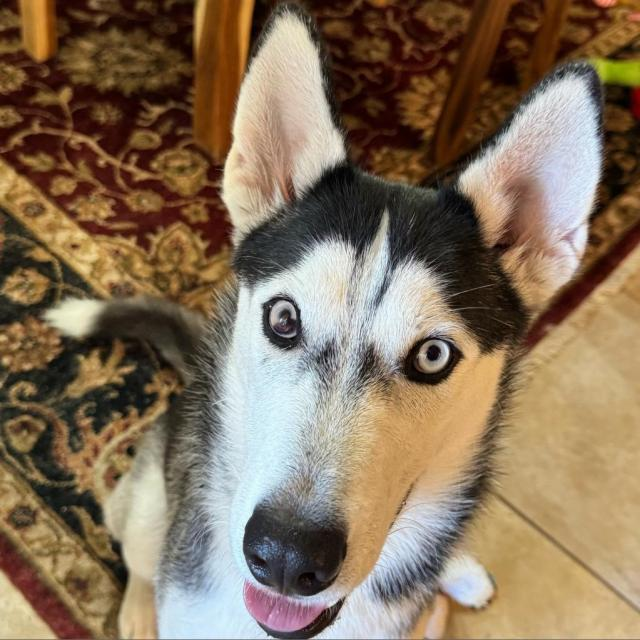siberian_husky_dog: (190, 0, 610, 640)
